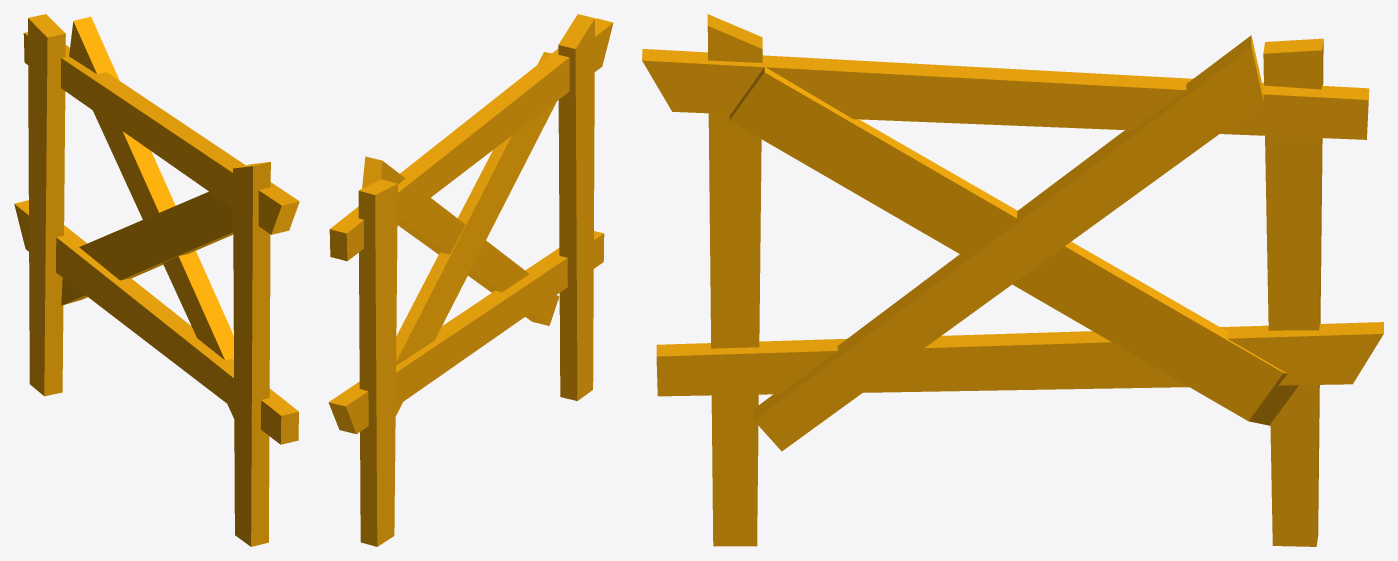
File: fence001.fbx
The picture shows the model from 3 angles, left to right: view 1: azimuth 30°, elevation 25°; view 2: azimuth 150°, elevation 25°; view 3: azimuth 270°, elevation 25°; orthographic projection. The views are drawn at different scales.
Visible parts, largest first — view 1: TODOS:polySurface5; view 2: TODOS:polySurface5; view 3: TODOS:polySurface5.
Boxes of the visible parts, x1,y1,x2,y2 form: TODOS:polySurface5: (14,14,299,546); TODOS:polySurface5: (328,14,613,546); TODOS:polySurface5: (642,14,1383,546).
Bounding box in the file's own units: 0.5852 × 5.54 × 7.15.
